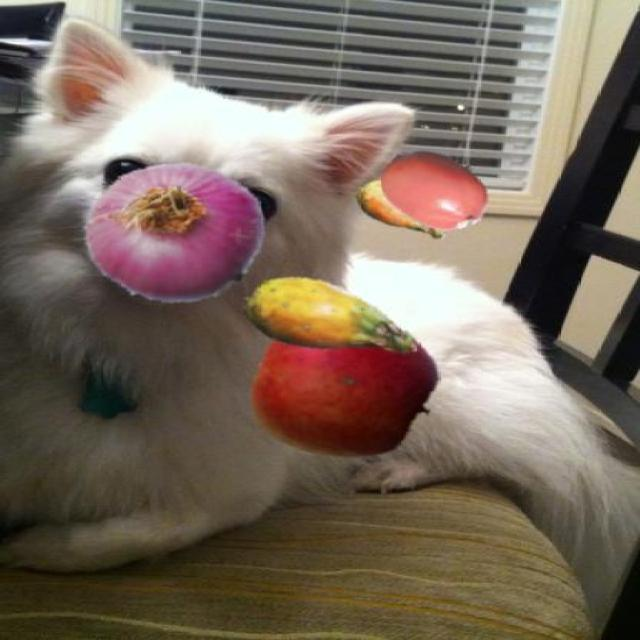Apple: (246, 310, 443, 460)
